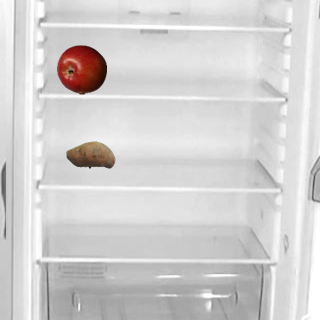Apple Braeburn: (56, 44, 106, 94)
Potato Sweet: (65, 129, 115, 179)
